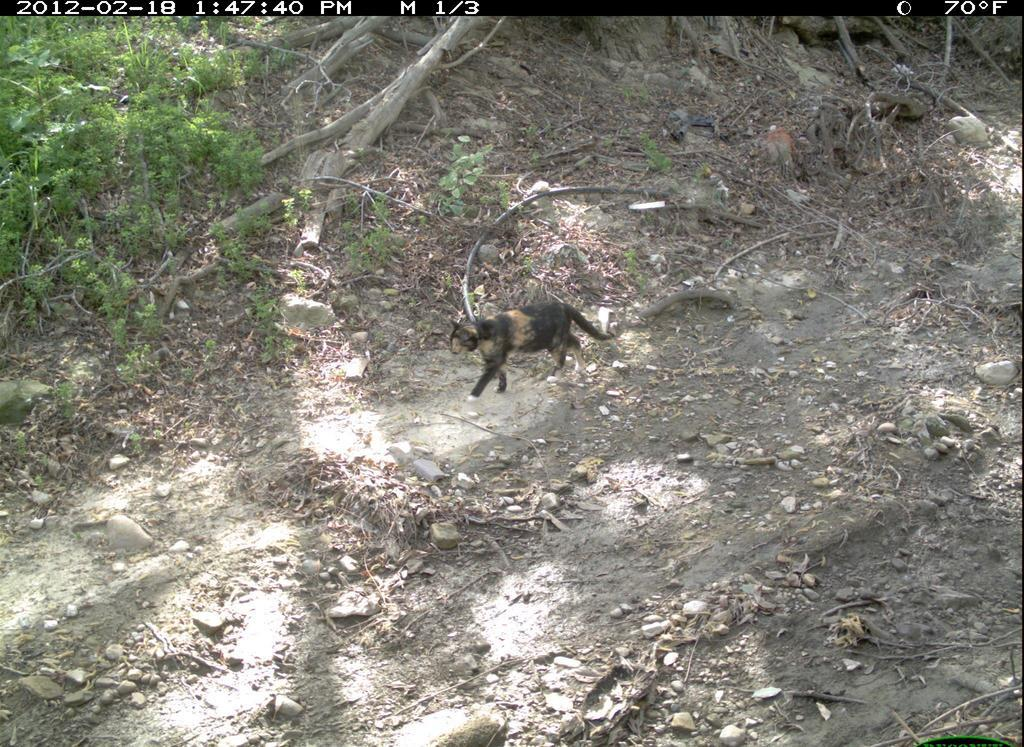cat: (449, 300, 612, 408)
